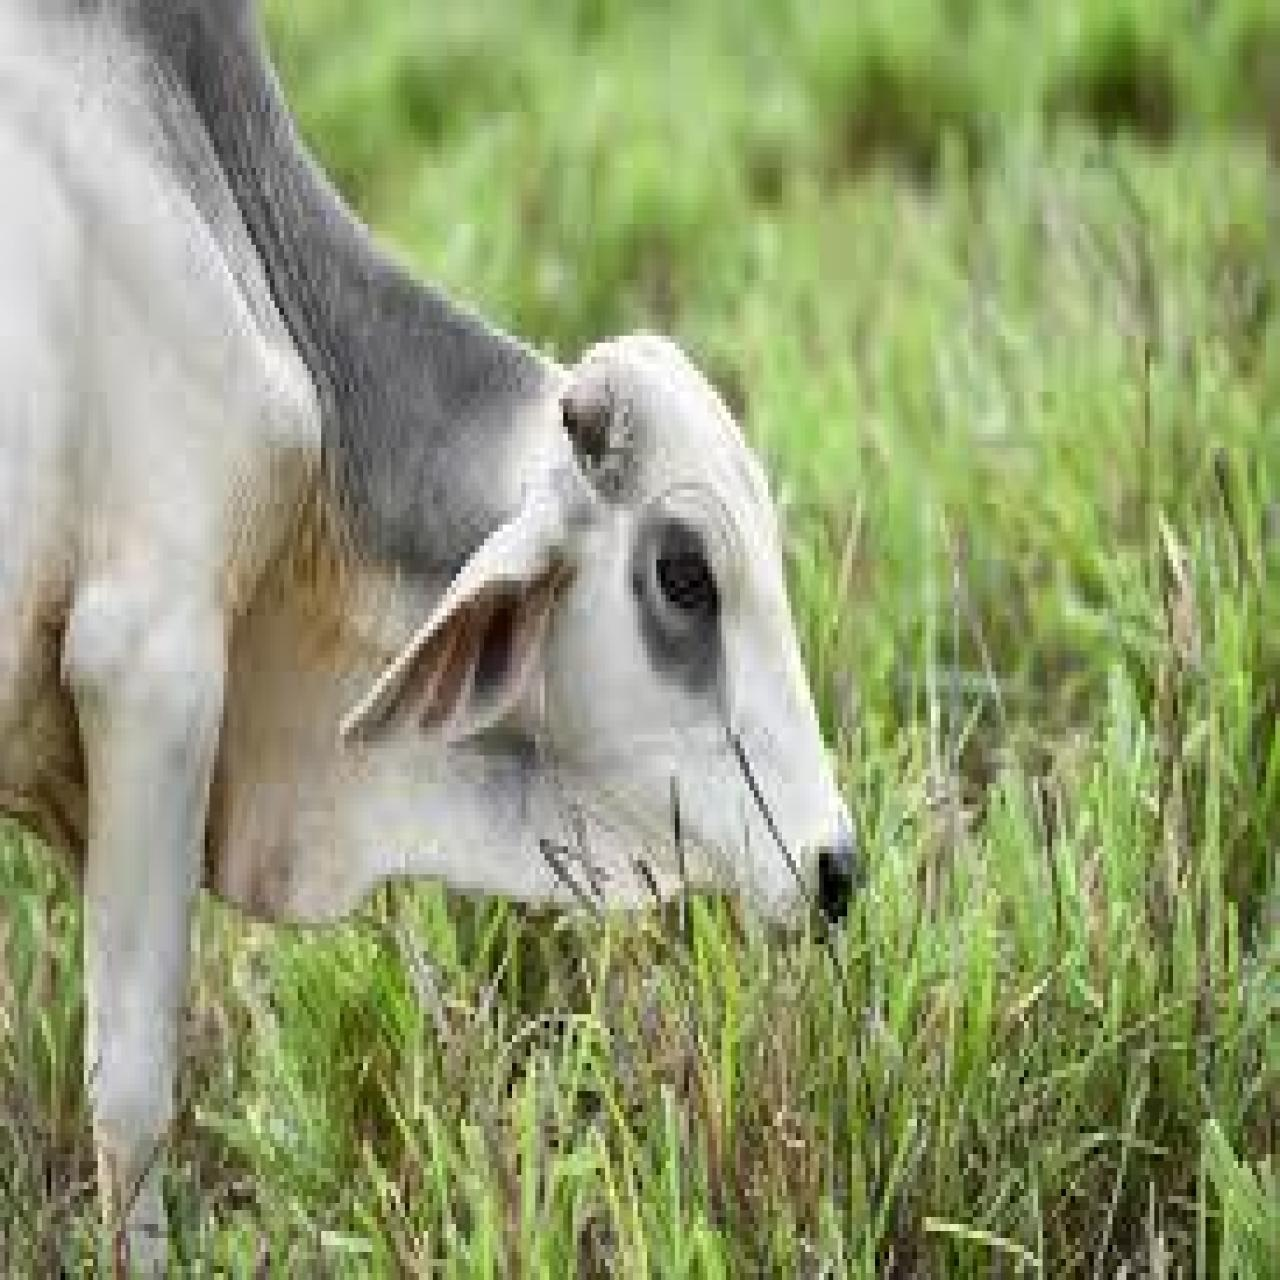cow: (0, 0, 852, 1273)
